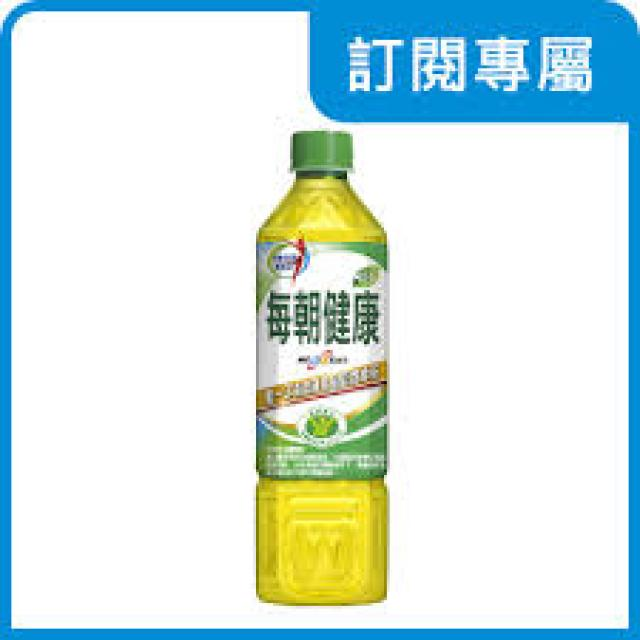MeiChou_GreenTea: (246, 120, 395, 612)
